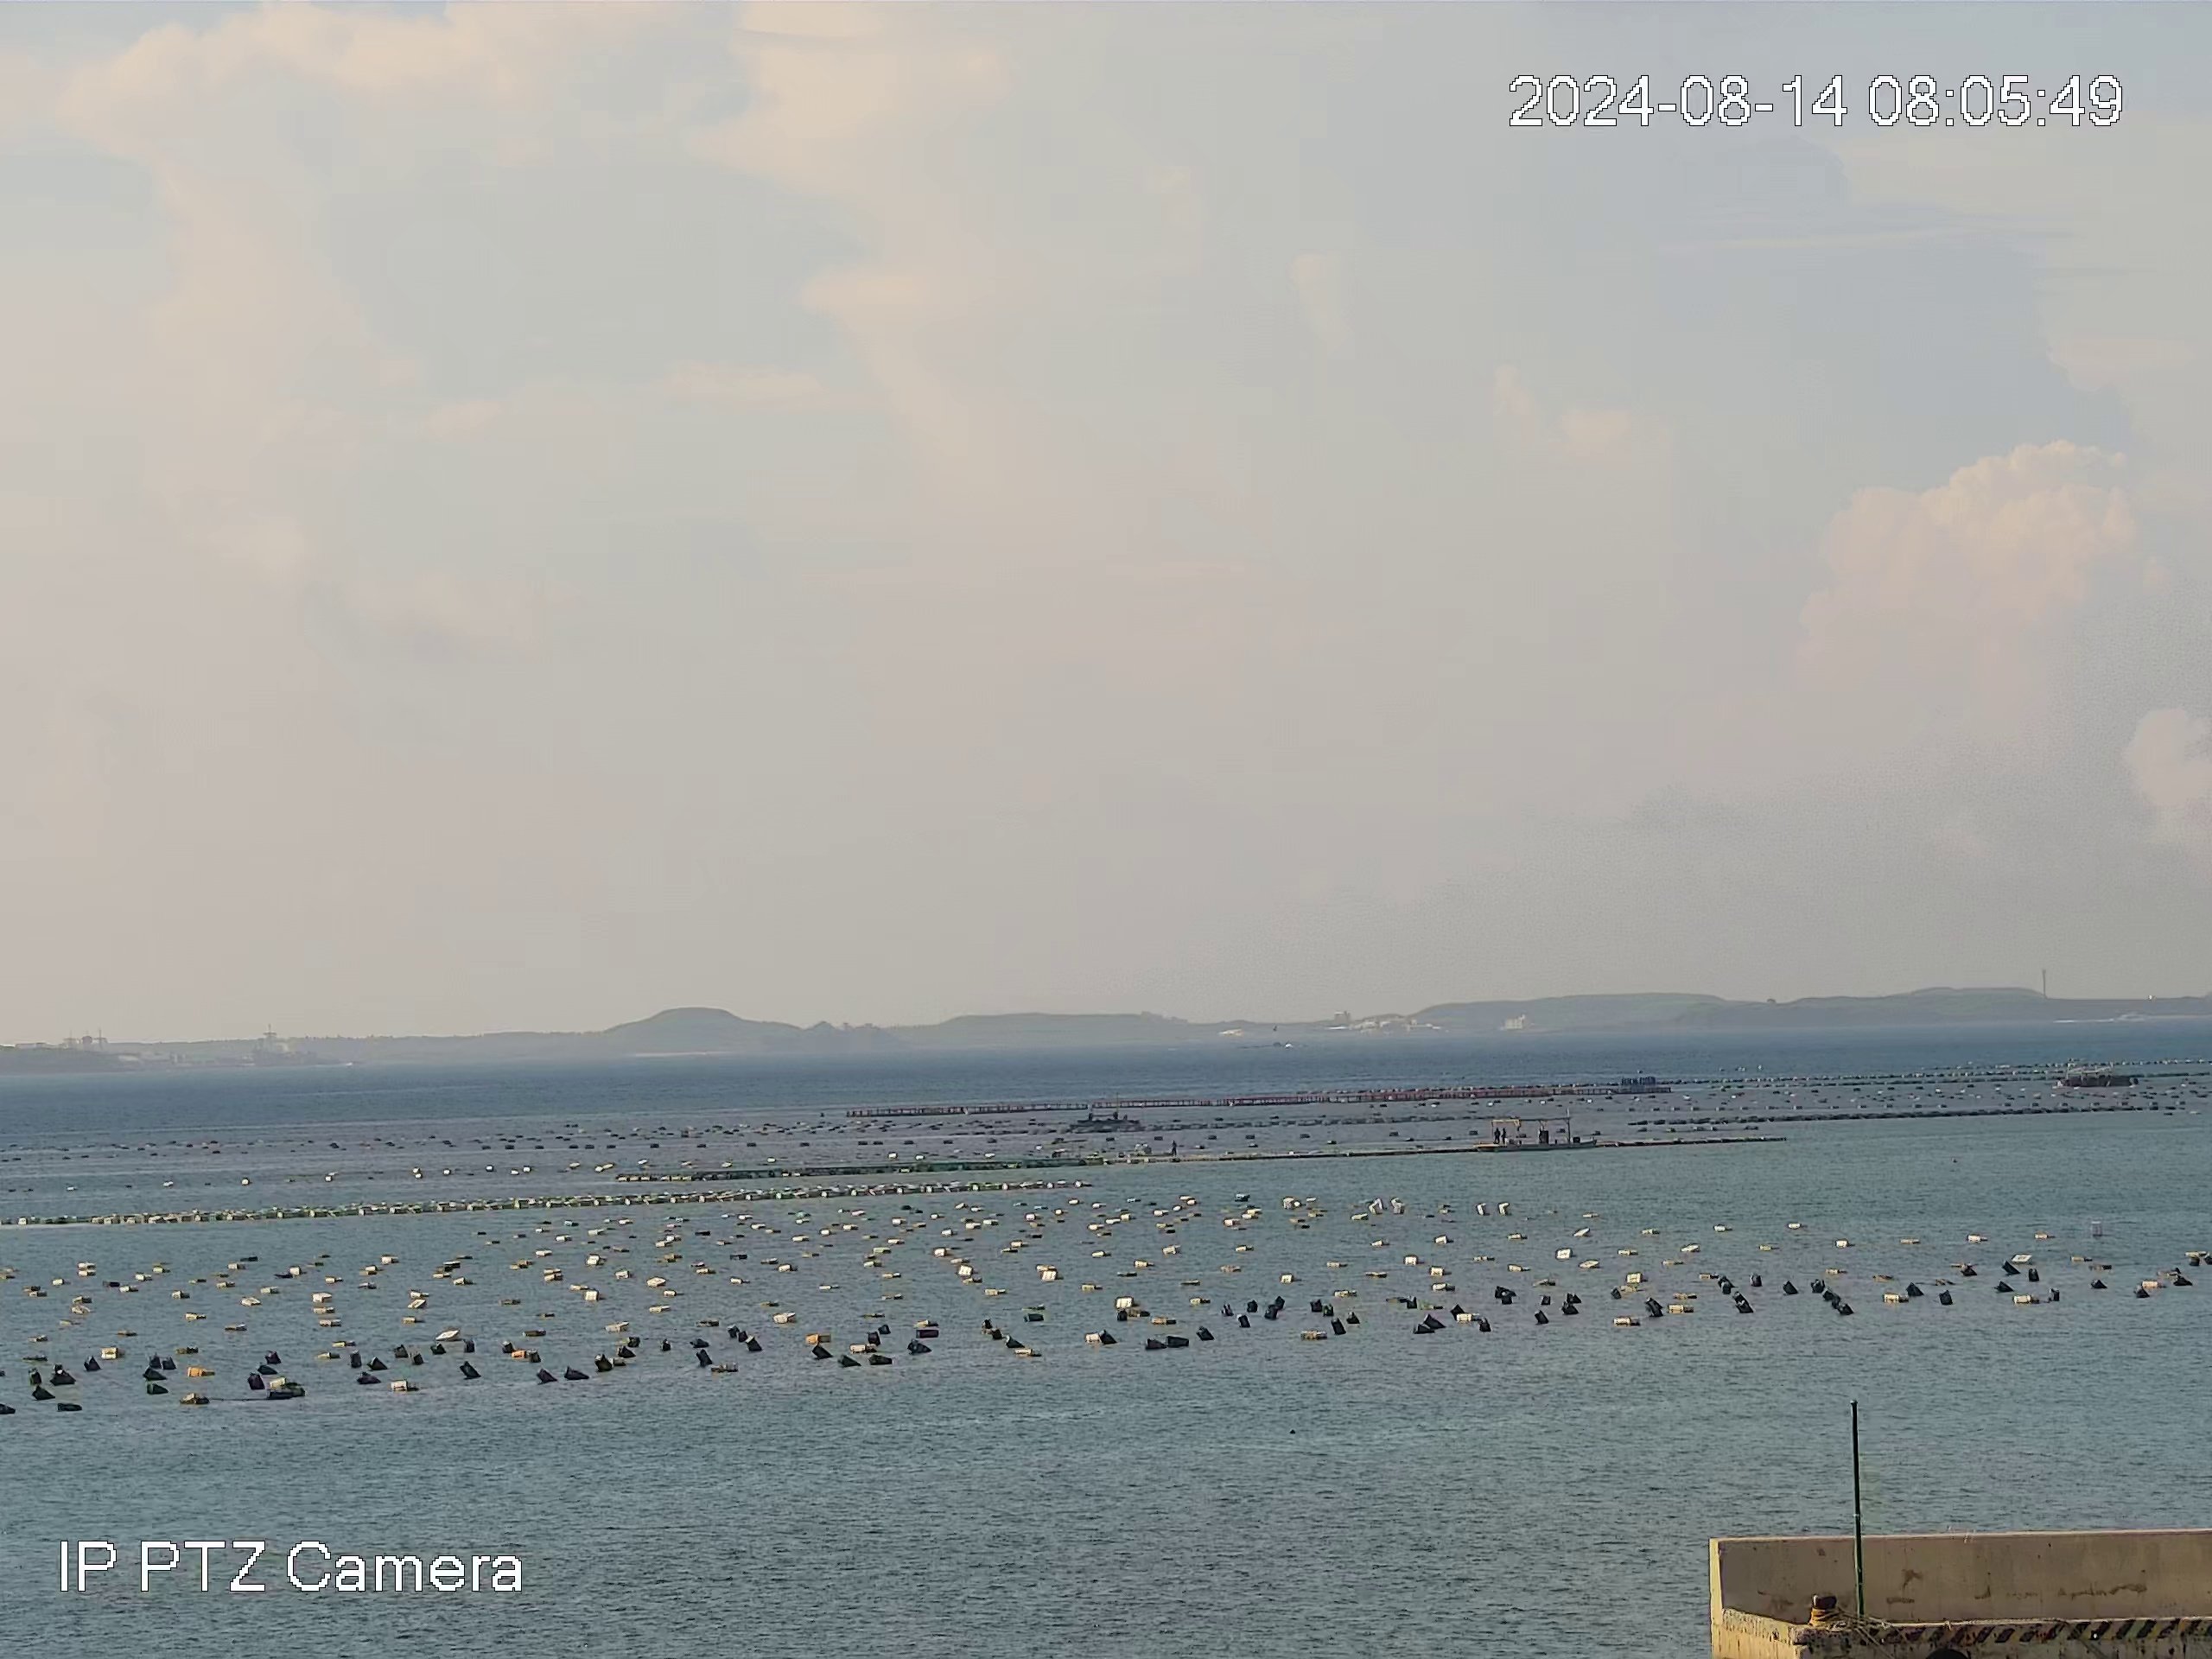boat: (1471, 1116, 1598, 1152), (2062, 1065, 2142, 1091)
